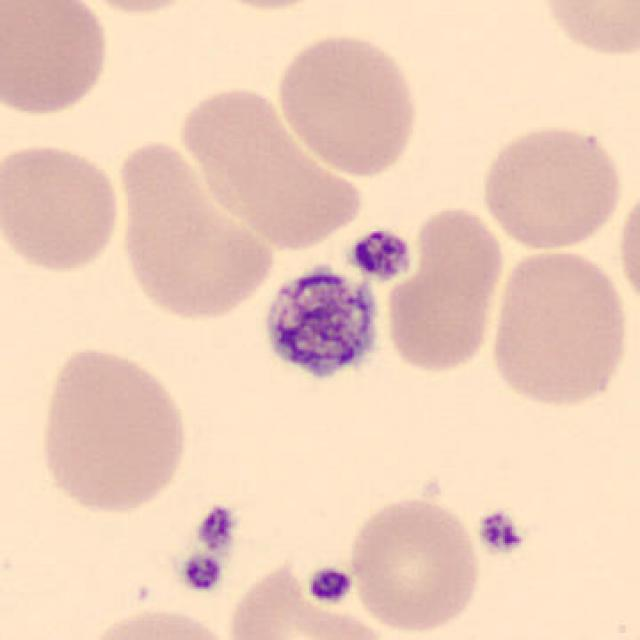Platelets: (258, 261, 386, 386), (347, 226, 416, 282), (475, 508, 528, 557), (194, 502, 238, 554), (304, 562, 356, 606), (178, 550, 226, 594)
RBC: (174, 77, 372, 250), (114, 136, 279, 326), (34, 342, 194, 518), (485, 243, 633, 411), (272, 28, 423, 178), (381, 200, 508, 378), (476, 118, 626, 254), (345, 492, 483, 635), (0, 138, 126, 275), (222, 557, 390, 640), (0, 0, 114, 120), (533, 0, 640, 60), (75, 603, 240, 640), (613, 180, 640, 312), (66, 0, 210, 16), (190, 0, 342, 14)
